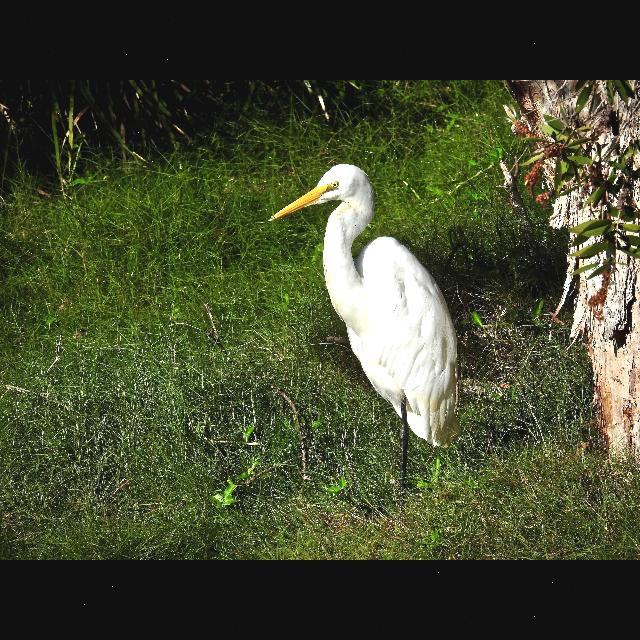egret: (264, 160, 468, 502)
